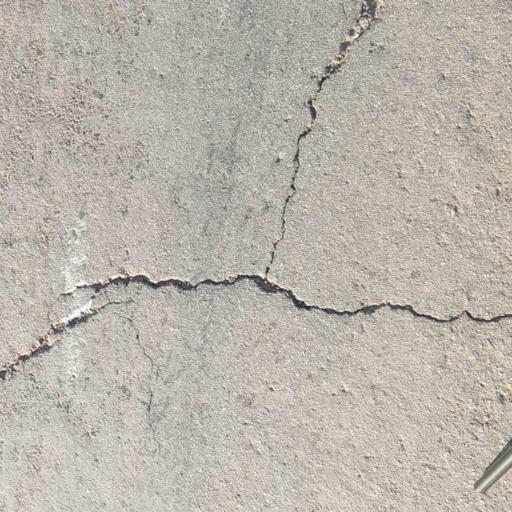GRIETA: (265, 0, 377, 277), (77, 274, 511, 323), (0, 302, 134, 383), (123, 317, 154, 371), (145, 377, 160, 453)
